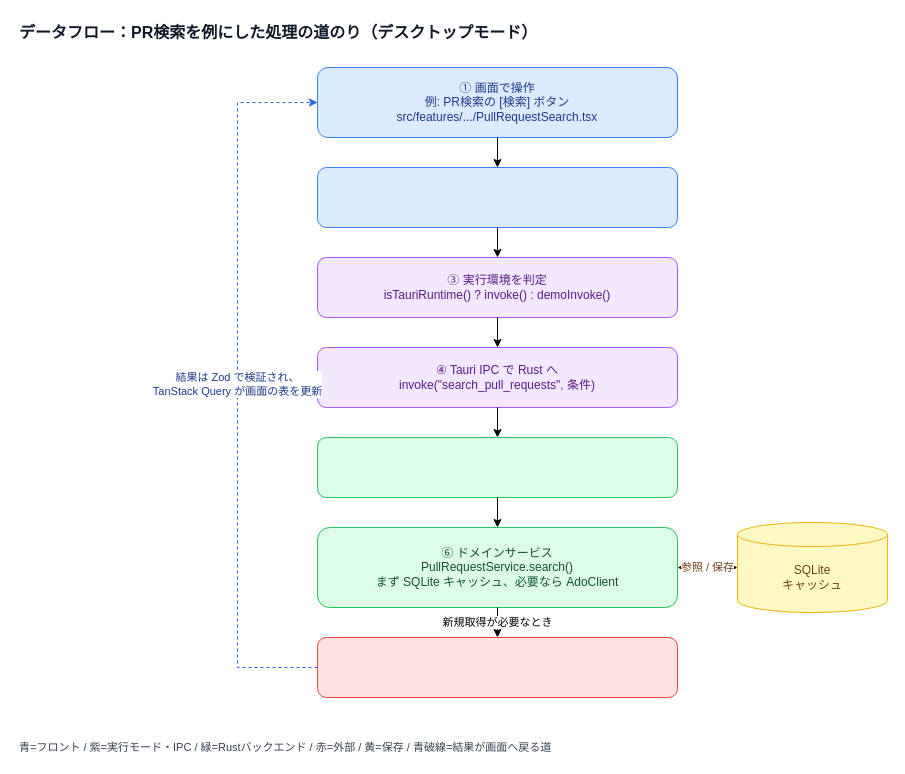
This 905x774 diagram has some shape labels left out. Here are the shapes that lost their labels. From the top down, the box of each, then its label:
(316, 166, 678, 228): ② フロント境界を呼ぶ azdoCommands.searchPullRequests(条件)
(316, 436, 678, 498): ⑤ コマンド受け口 lib.rs: #[tauri::command] search_pull_requests
(316, 636, 678, 698): ⑦ REST 通信 AdoClient → Azure DevOps REST 7.1
